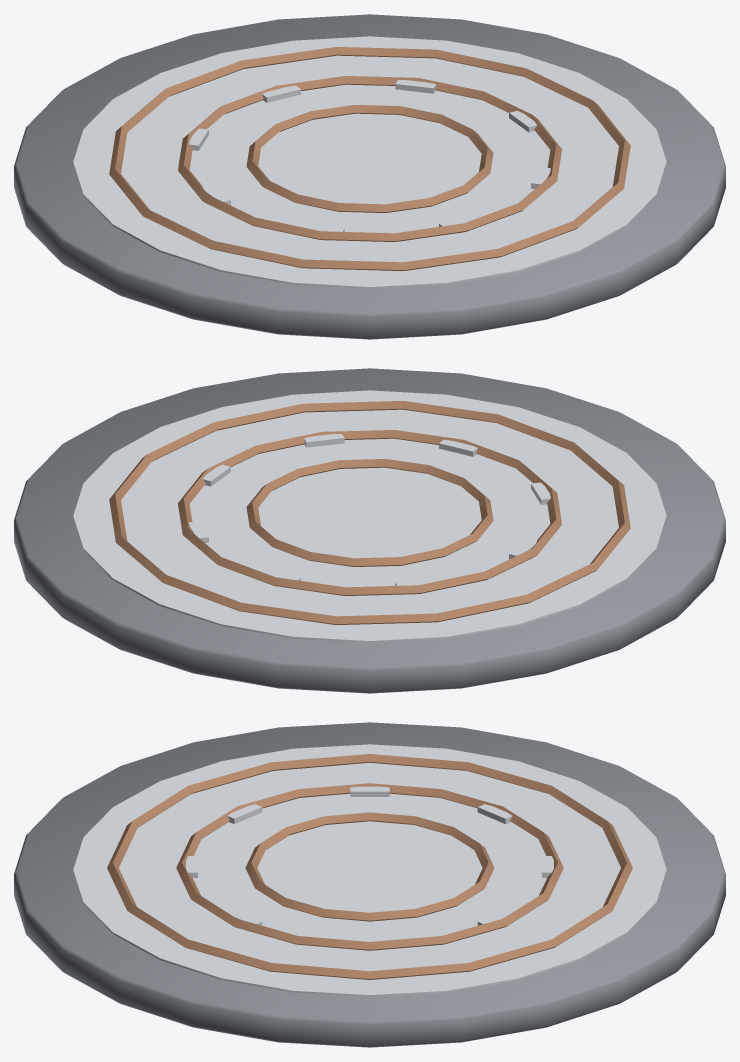
The model's file is Manhole.fbx.
3 renders of one model, top to bottom at view 1: azimuth 30°, elevation 25°; view 2: azimuth 150°, elevation 25°; view 3: azimuth 270°, elevation 25°, orthographic.
Parts seen in each view (by area): view 1: LOD0; view 2: LOD0; view 3: LOD0.
Boxes of the visible parts, <box> form: LOD0: <box>14,14,725,339</box>; LOD0: <box>14,368,725,693</box>; LOD0: <box>14,722,725,1047</box>.
Size of what is drawn, in the model's own units: 72 by 4 by 72.
